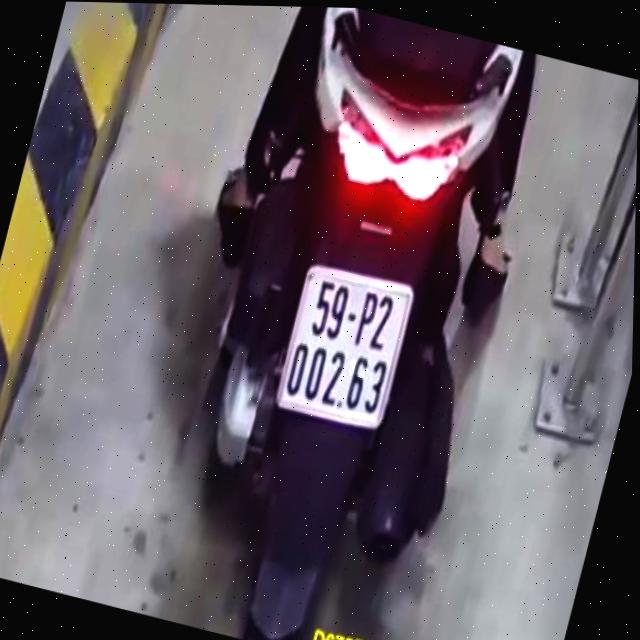motorcycle: (140, 3, 567, 640)
plate: (261, 252, 422, 436)
